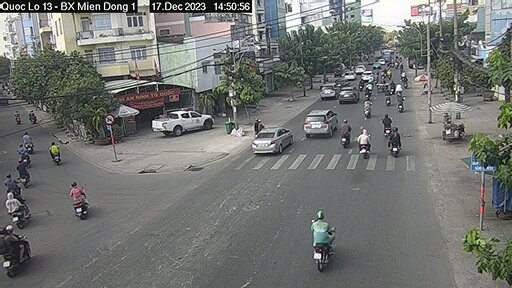car: (146, 103, 225, 136), (300, 106, 341, 144), (249, 122, 280, 167), (339, 81, 362, 107), (315, 80, 331, 104)
motorbike: (296, 203, 347, 259), (65, 177, 95, 223), (45, 144, 70, 169), (357, 130, 375, 160)
